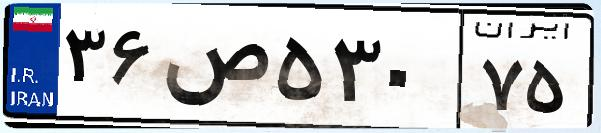0: (385, 28, 445, 110)
3: (330, 28, 385, 110), (57, 26, 110, 100)
5: (270, 28, 330, 110), (525, 38, 570, 115)
6: (110, 28, 158, 98)
7: (475, 38, 525, 113)
ص: (158, 20, 270, 120)
